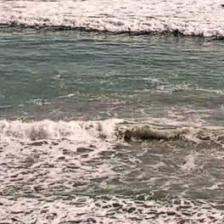surfer: (220, 2, 223, 8)
